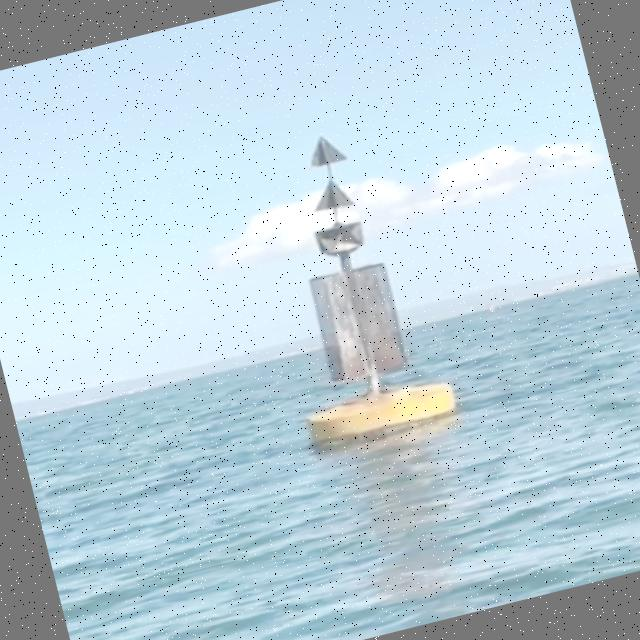marque: (236, 119, 467, 465)
